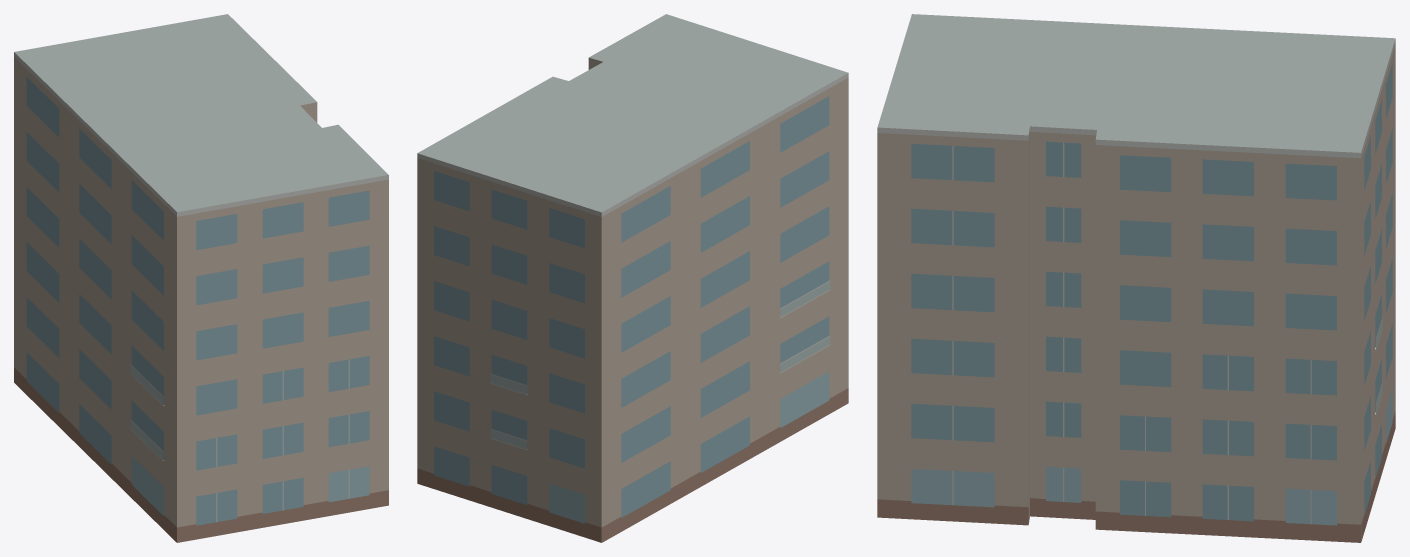
The model's file is survey-upis-33026083.glb.
3 views of the same model, side by side, from view 1: azimuth 30°, elevation 25°; view 2: azimuth 150°, elevation 25°; view 3: azimuth 270°, elevation 25° (orthographic). The views are drawn at different scales.
Visible parts, largest first — view 1: survey-upis-33026083.tmp; view 2: survey-upis-33026083.tmp; view 3: survey-upis-33026083.tmp.
Boxes of the visible parts, x1,y1,x2,y2 form: survey-upis-33026083.tmp: (14,14,388,542); survey-upis-33026083.tmp: (417,14,848,542); survey-upis-33026083.tmp: (877,14,1395,542).
Size of the model in its own units: 13.49 by 17.65 by 21.26.
